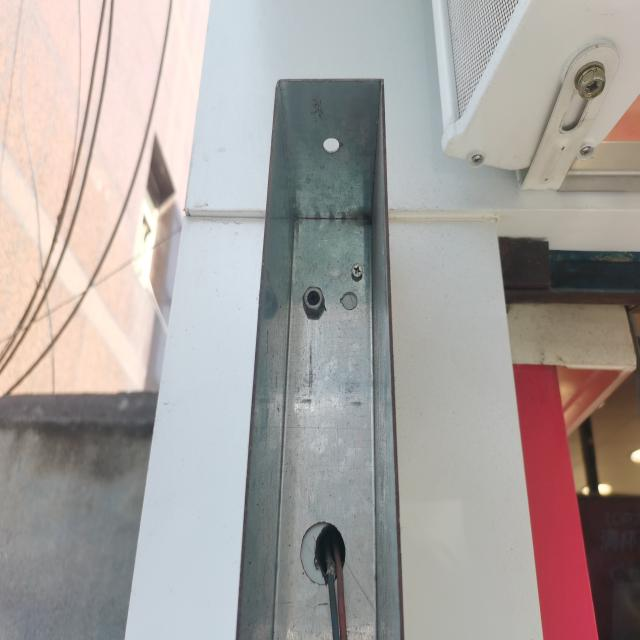bolt nut: (302, 286, 326, 317)
